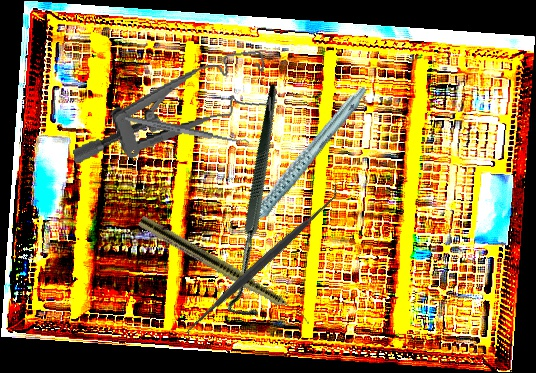Handpiece: (205, 83, 393, 241), (136, 214, 315, 327)
Hook Surgical: (147, 83, 375, 326)
Spatula Surgical: (174, 181, 351, 343)
Speculum: (62, 49, 277, 166)
Surgical Spoon: (124, 113, 250, 149)
